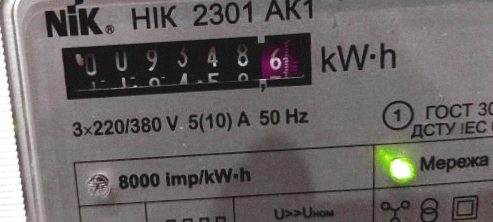0: (113, 47, 129, 71), (83, 49, 97, 76)
3: (173, 43, 189, 69)
4: (203, 41, 219, 69)
6: (266, 44, 284, 72)
8: (233, 40, 250, 69)
9: (143, 45, 159, 72)
screen: (51, 23, 324, 109)
